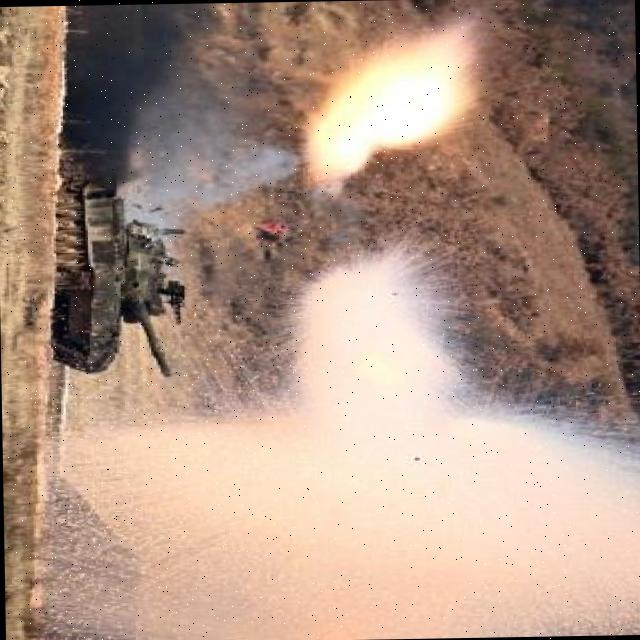north tank: (30, 146, 222, 387)
